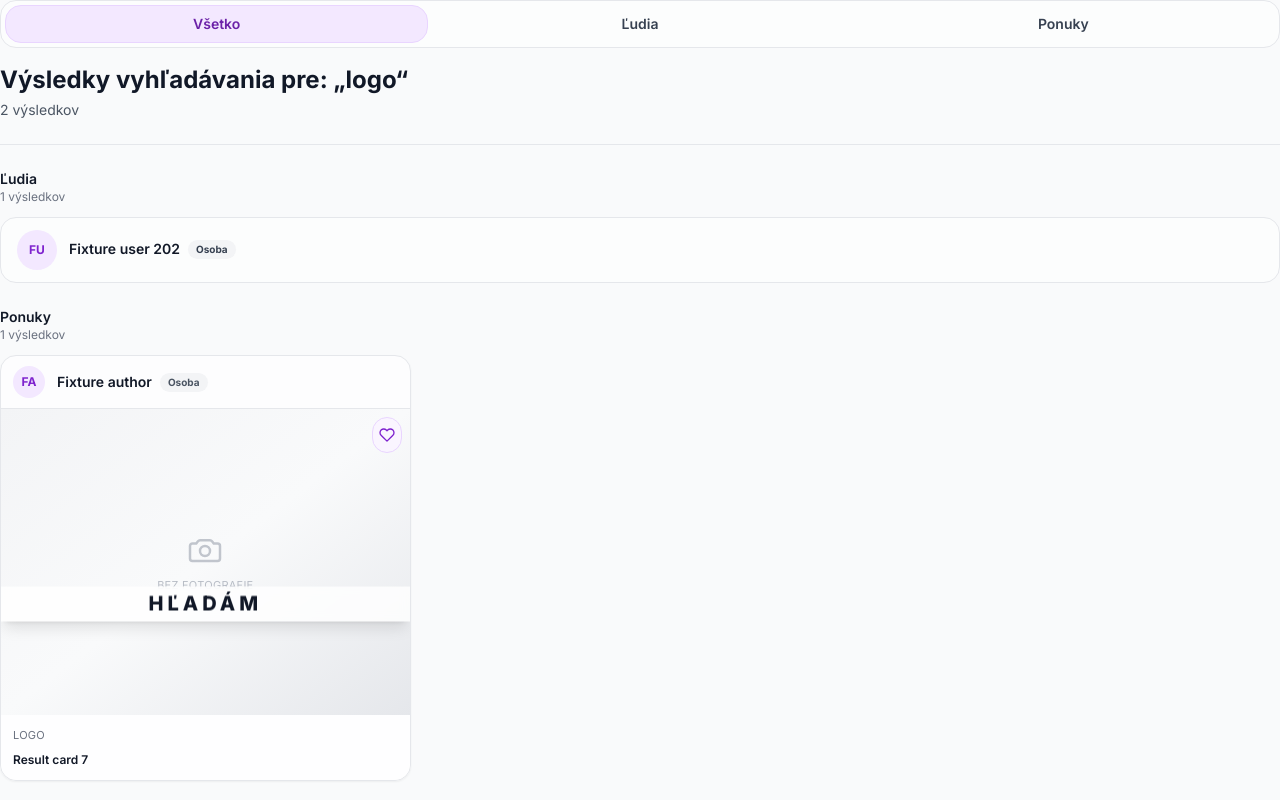
Scenario: actual /search page all cards › uses a demand banner and never adds the offer review action
The image size is (1280, 800).
Check: the text "Result card 7" is shown, box [13,752,88,767]
Check: the text "Hľadám" is shown, box [149,591,262,615]
Click the button "Hľadám Bez fotografie Logo Result card 7" at (205, 594), box [1,409,410,780]
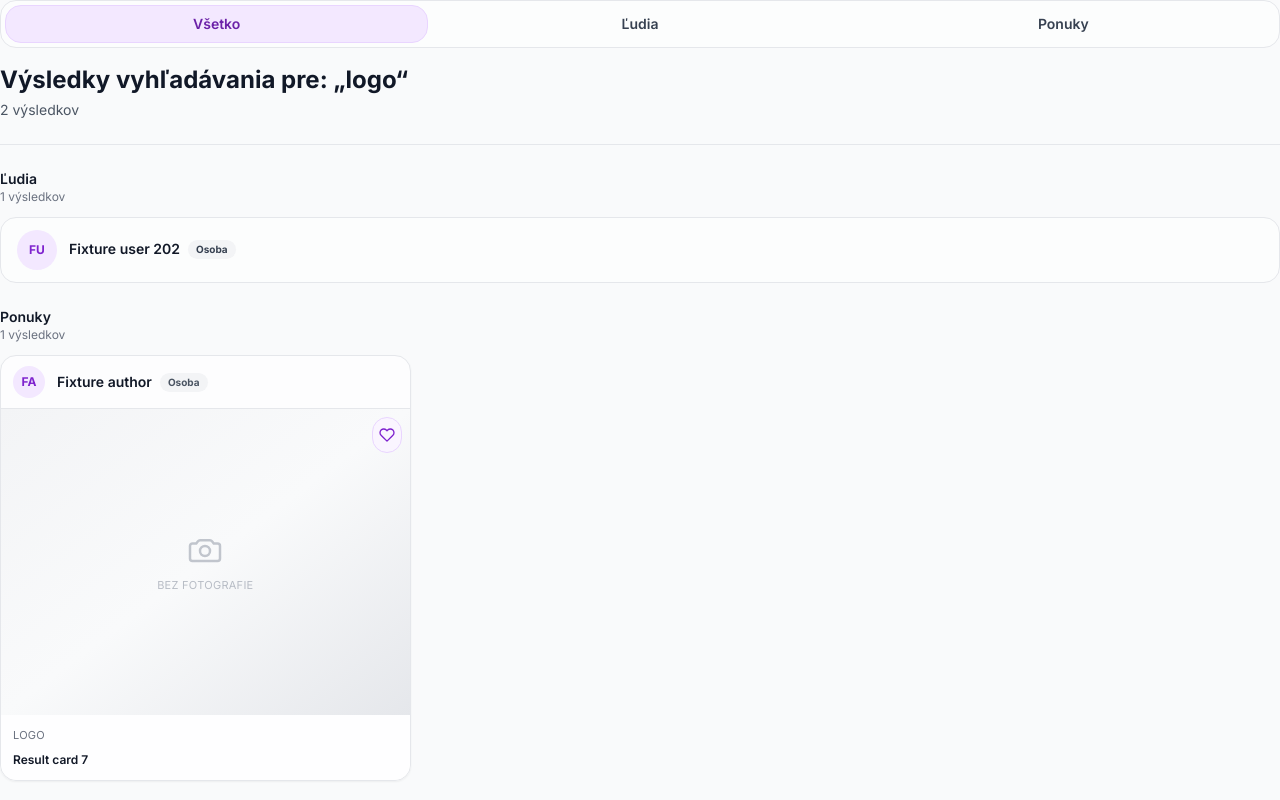
Click the button "Bez fotografie Logo Result card 7" at (205, 594), box [1,409,410,780]
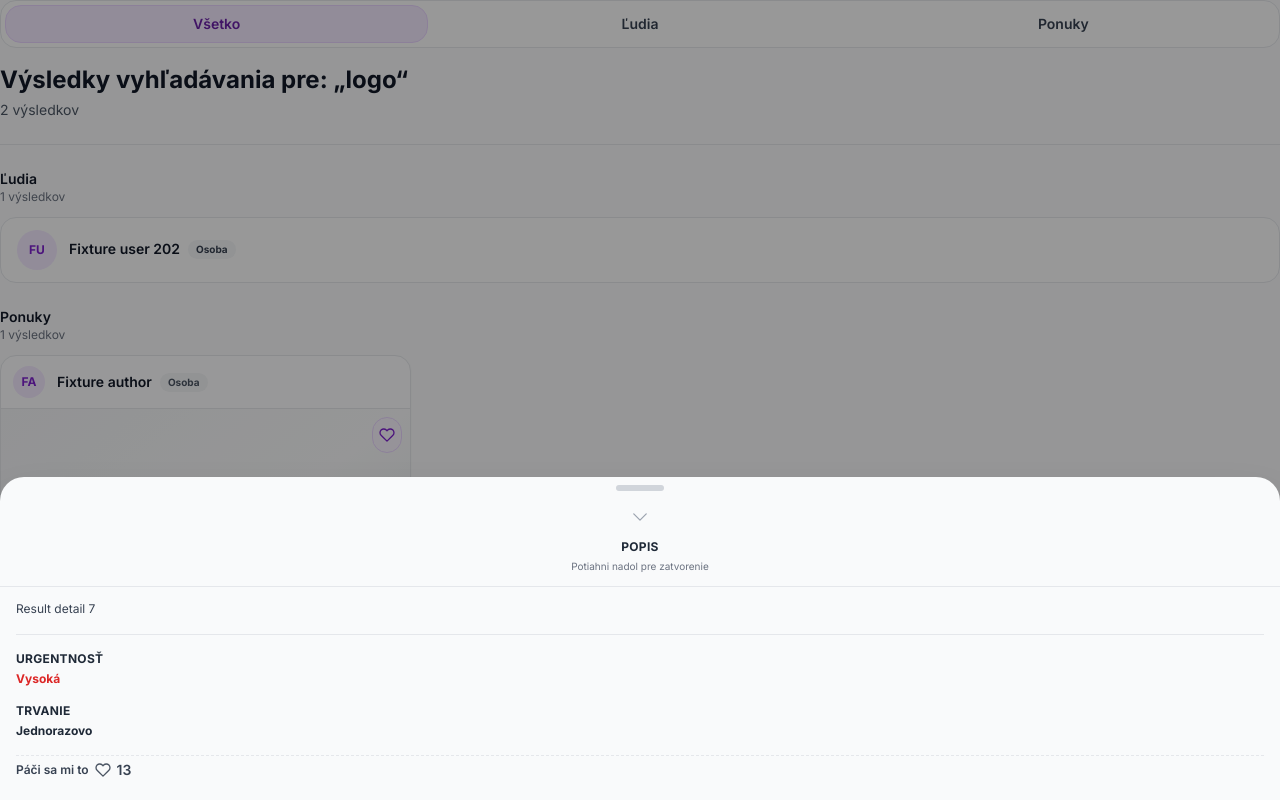
Check: the text "Vysoká" is shown, box [16,671,60,687]
Check: the text "Jednorazovo" is shown, box [16,723,92,739]
